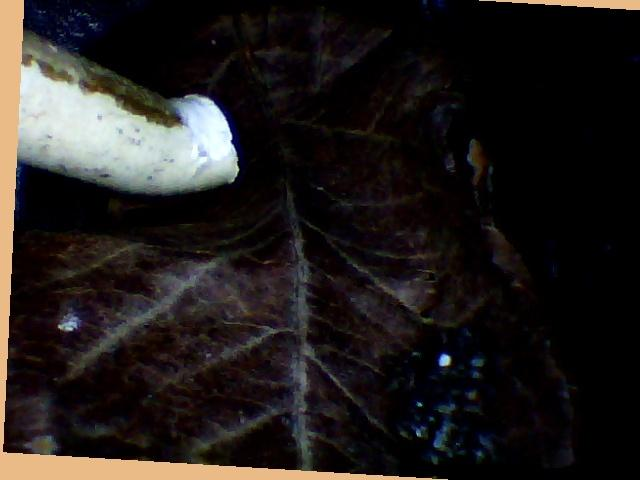feuille: (11, 1, 490, 470)
